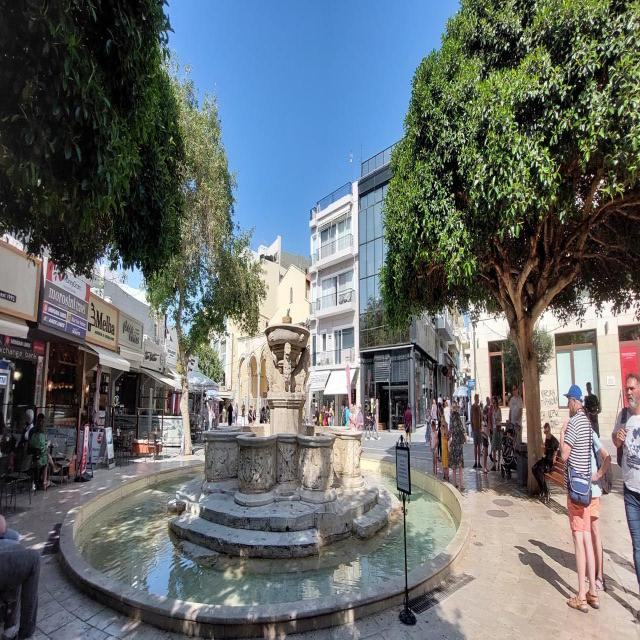Liontaria: (206, 315, 364, 491)
